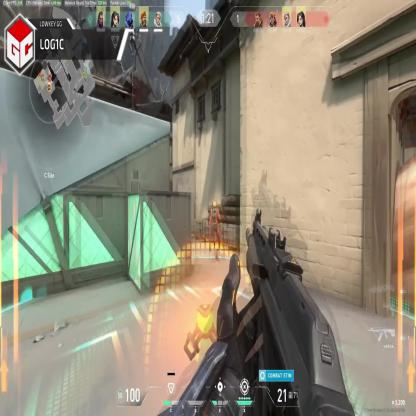enemy: (209, 200, 221, 260)
enemy_head: (211, 199, 217, 212)
